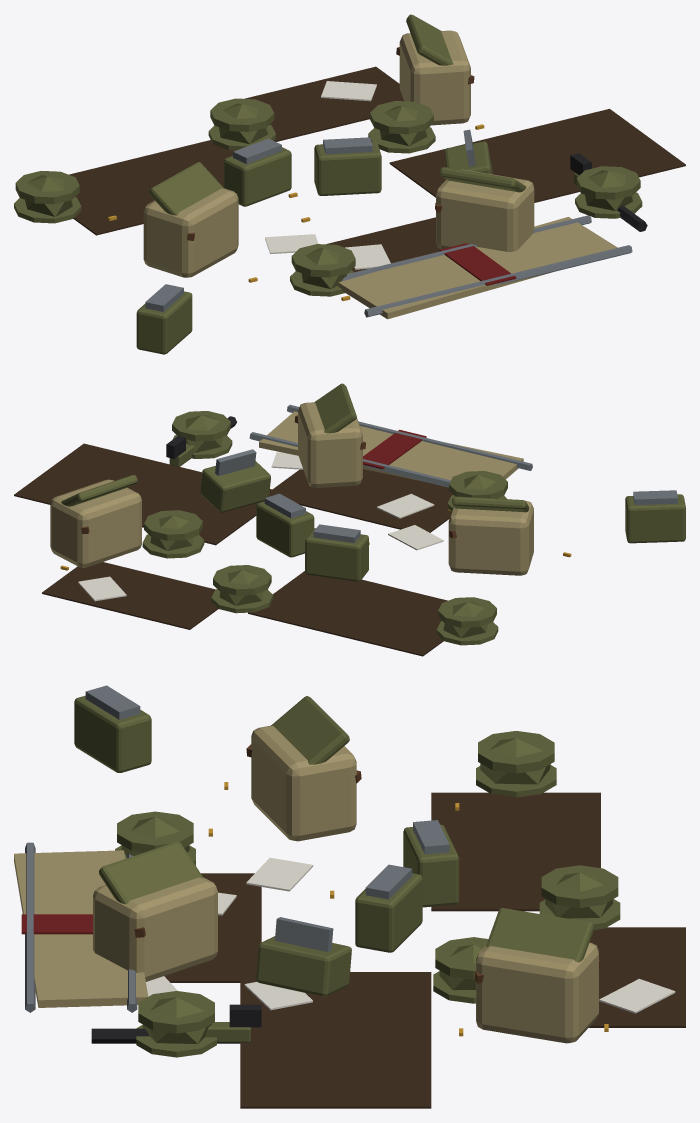
The model's file is army_gear_scatter.glb.
3 renders of one model, top to bottom at view 1: azimuth 30°, elevation 25°; view 2: azimuth 150°, elevation 25°; view 3: azimuth 270°, elevation 25°, orthographic. The views are drawn at different scales.
Parts seen in each view (by area): view 1: army_gear_scatter; view 2: army_gear_scatter; view 3: army_gear_scatter.
Boxes of the visible parts, x1=… form: army_gear_scatter: x1=14, y1=14, x2=685, y2=354; army_gear_scatter: x1=14, y1=383, x2=685, y2=656; army_gear_scatter: x1=14, y1=685, x2=685, y2=1108.
Size of what is drawn, in the model's own units: 4.11 by 0.5514 by 3.17.
2 materials, 2 textured.
